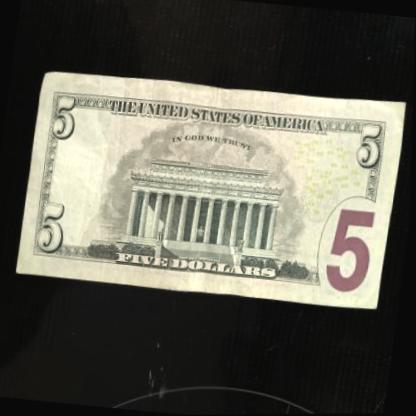five-back: (15, 63, 409, 313)
